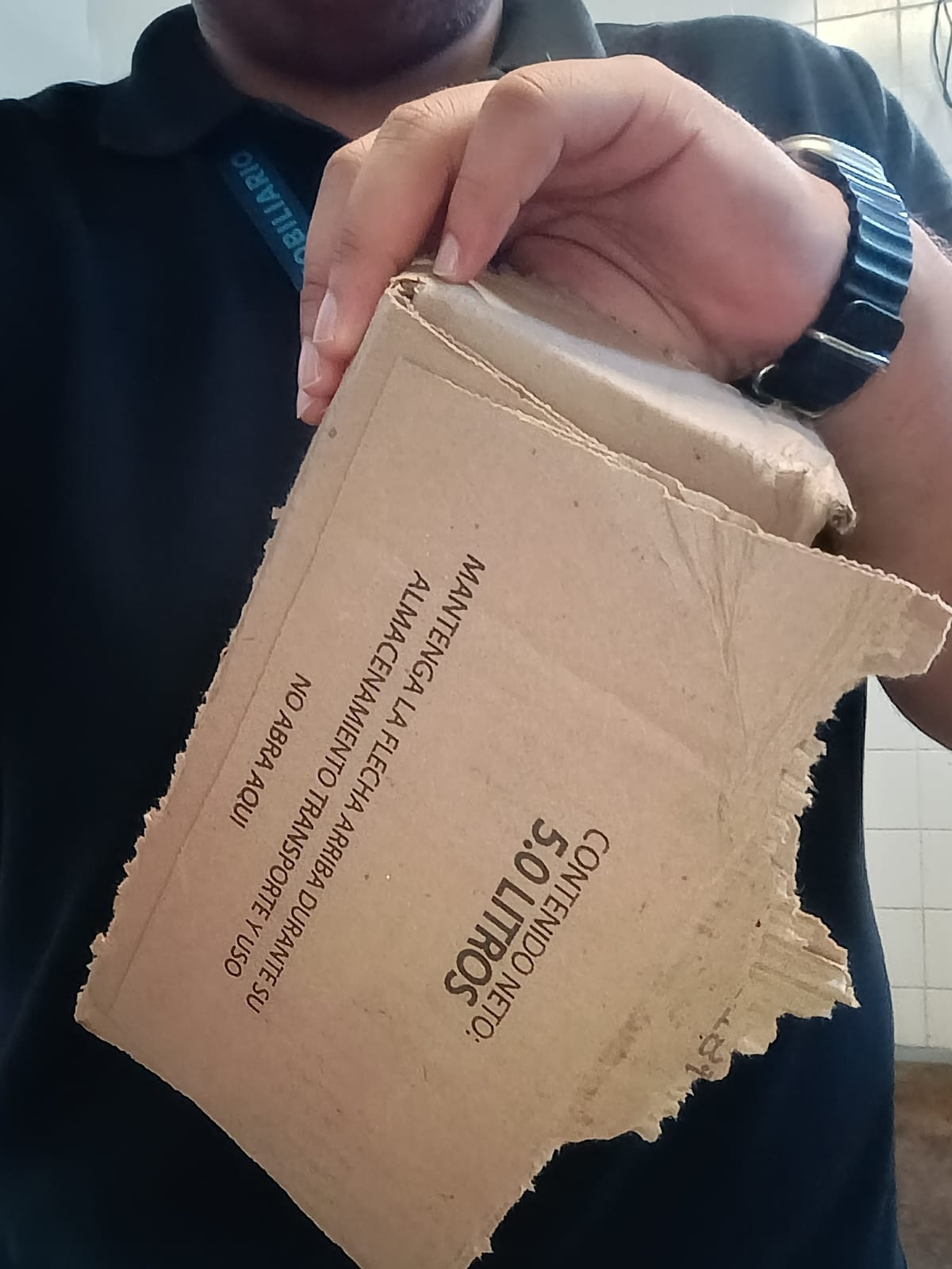Carton: (78, 225, 952, 1269)
